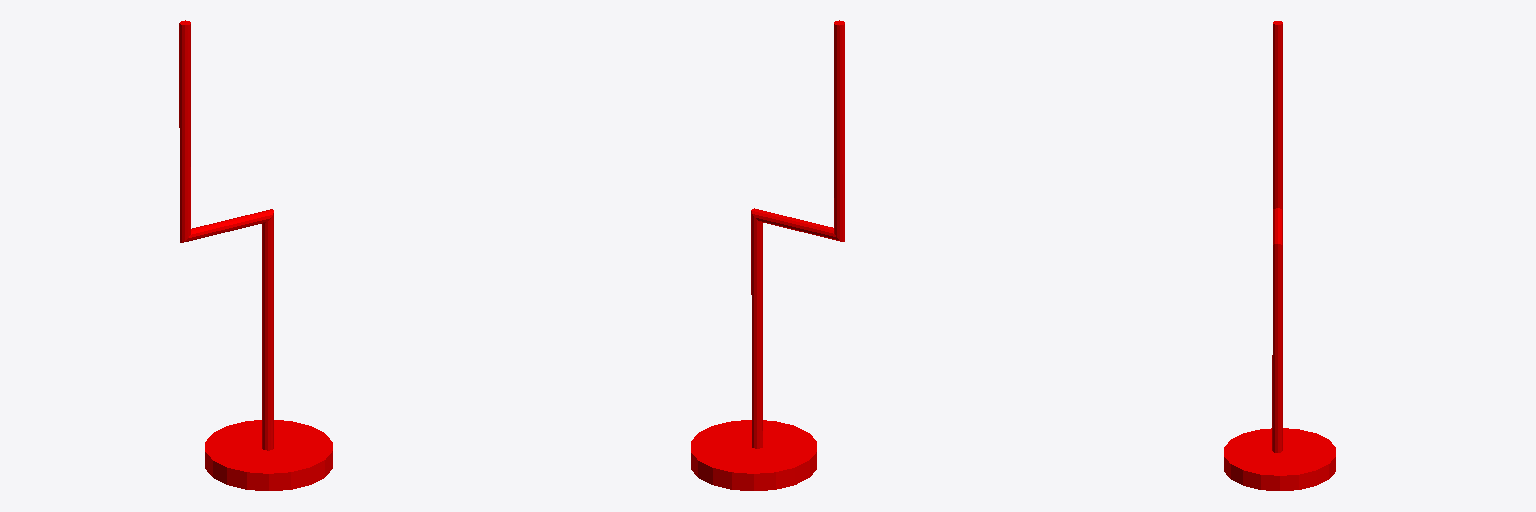
URDF robot description (ring):
<?xml version="0.0" ?>
<robot name="ring">
    <material name="white">
        <color rgba="1 0 0 1"/>
    </material>

    <link name="baseLink">
        <!-- from lego/lego.urdf -->
        <contact>
            <lateral_friction value="1.0"/>
            <rolling_friction value="0.0"/>
            <contact_cfm value="0.0"/>
            <contact_erp value="1.0"/>
        </contact>
        <inertial>
            <origin rpy="0 0 0" xyz="0 0 0"/>
            <mass value="0.01"/>
            <inertia ixx="1" ixy="0" ixz="0" iyy="1" iyz="0" izz="1"/>
        </inertial>
        <visual>
            <origin rpy="1.57 0 0" xyz="0 0 0"/>
            <geometry>
                <!--        radius: 10mm, depth: 14.5mm-->
                <mesh filename="meshes/l.obj" scale="1 1 1"/>
                <!--        <box size="0.002 0.002 0.002"/>-->
            </geometry>
            <material name="white"/>
        </visual>
        <collision>
            <origin rpy="1.57 0 0" xyz="0 0 0"/>
            <geometry>
                <mesh filename="meshes/l_vhacd.obj" scale="1 1 1"/>
                       <!-- <box size="2 2 2"/> -->
            </geometry>
        </collision>
    </link>
</robot>

--- What the picture shows (computed from the rendered views, not written in the file) ---
3 views of the same robot in one strip: view 1: azimuth 30°, elevation 25°; view 2: azimuth 150°, elevation 25°; view 3: azimuth 270°, elevation 25° (orthographic).
Model ring with 1 links and 0 joints (none), rooted at baseLink, posed all joints at 0.
Links seen in each view (by area): view 1: baseLink; view 2: baseLink; view 3: baseLink.
Link boxes in pixels (bbox=[...]): baseLink: bbox=[179, 20, 332, 490]; baseLink: bbox=[691, 20, 844, 490]; baseLink: bbox=[1224, 21, 1335, 490].
Size in the robot's own frame: 0.041 by 0.031 by 0.1243 metres.
Meshes: 1 distinct files referenced, 1 mesh visuals loaded (1 OBJ).